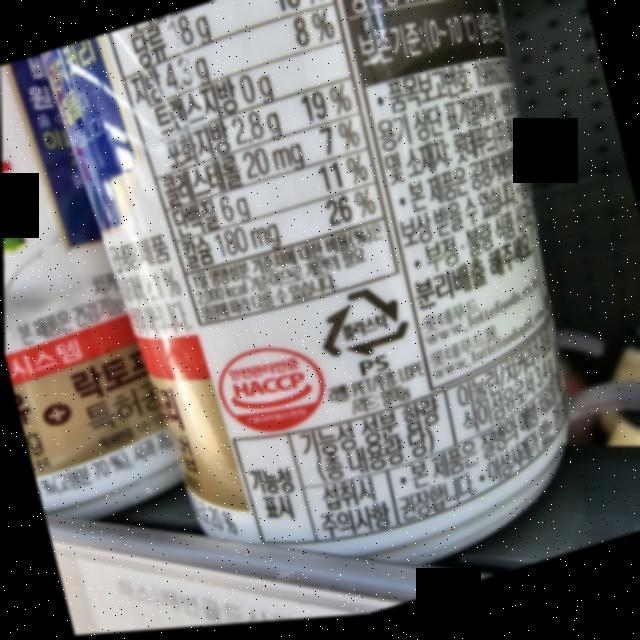Plastic: (308, 282, 414, 374)
